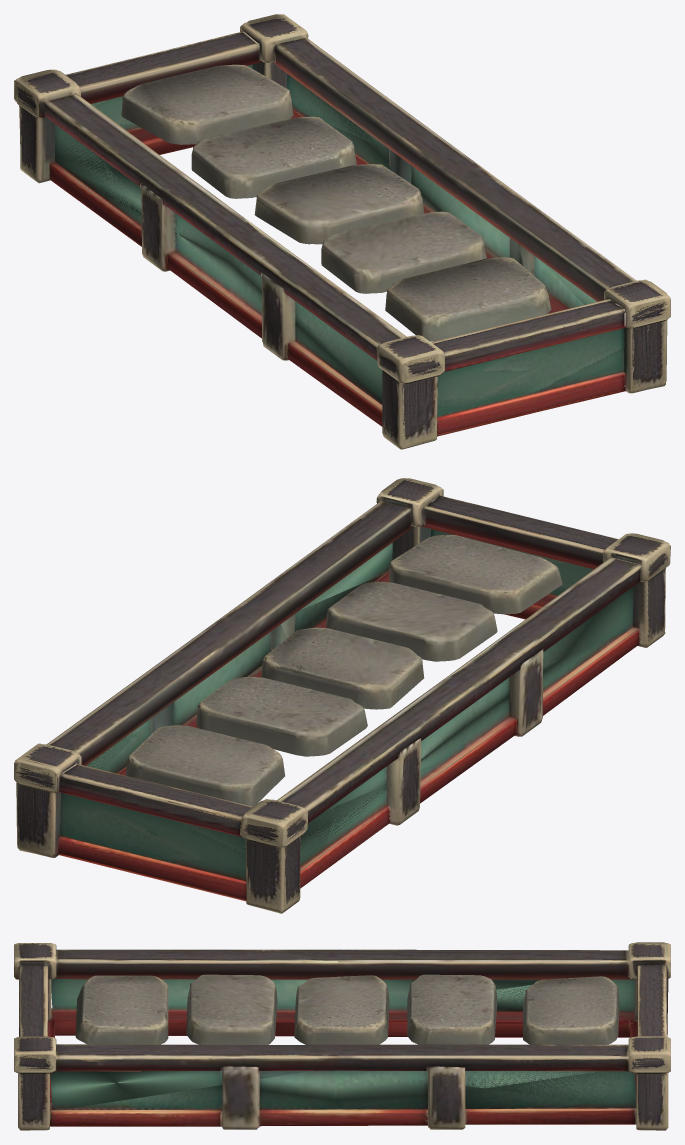
File: tripo_convert_3a601e3c-4712-46df-9792-4e70e86a46eb.fbx
3 views of the same model, one above another, from view 1: azimuth 30°, elevation 25°; view 2: azimuth 150°, elevation 25°; view 3: azimuth 270°, elevation 25° (orthographic). The views are drawn at different scales.
Parts seen in each view (by area): view 1: tripo_node_3a601e3c; view 2: tripo_node_3a601e3c; view 3: tripo_node_3a601e3c.
Boxes of the visible parts, x1=… form: tripo_node_3a601e3c: x1=14, y1=14, x2=670, y2=449; tripo_node_3a601e3c: x1=14, y1=478, x2=670, y2=913; tripo_node_3a601e3c: x1=14, y1=942, x2=670, y2=1130.
Bounding box in the file's own units: 0.4004 × 0.1309 × 0.998.
Materials: 1 (1 with a texture image).
